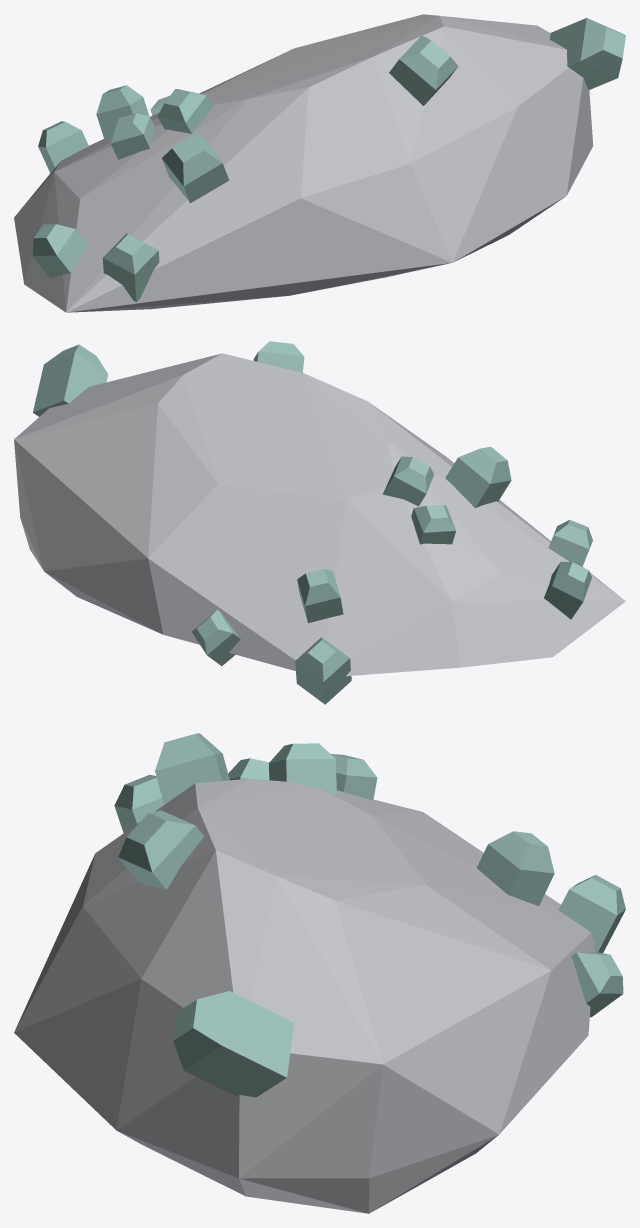
The model's file is SM_MR_Crystal_Medium_03.fbx.
The picture shows the model from 3 angles, top to bottom: view 1: azimuth 30°, elevation 25°; view 2: azimuth 150°, elevation 25°; view 3: azimuth 270°, elevation 25°; orthographic projection. The views are drawn at different scales.
Parts seen in each view (by area): view 1: SM_MR_Crystal_Medium_03; view 2: SM_MR_Crystal_Medium_03; view 3: SM_MR_Crystal_Medium_03.
Part boxes in pixels (bbox=[...]): SM_MR_Crystal_Medium_03: bbox=[14, 14, 625, 312]; SM_MR_Crystal_Medium_03: bbox=[14, 341, 625, 704]; SM_MR_Crystal_Medium_03: bbox=[14, 733, 625, 1213].
Size of the model in its own units: 1.15 by 0.7712 by 0.3918.
